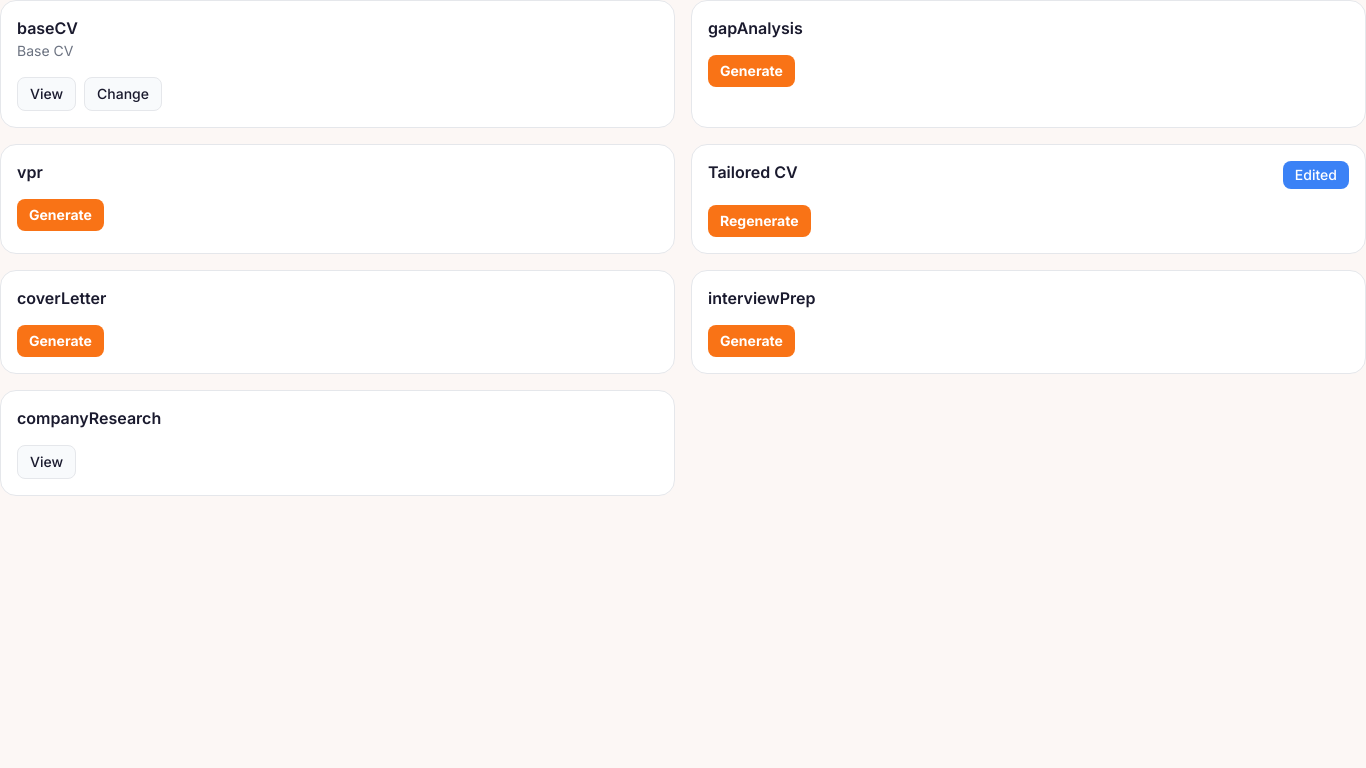
Test: ApplicationHubPage — action handlers › uses the tailored CV versioning copy in the regenerate modal
Click the button with test id "primary-cta" at (759, 221), box [708,205,811,237]
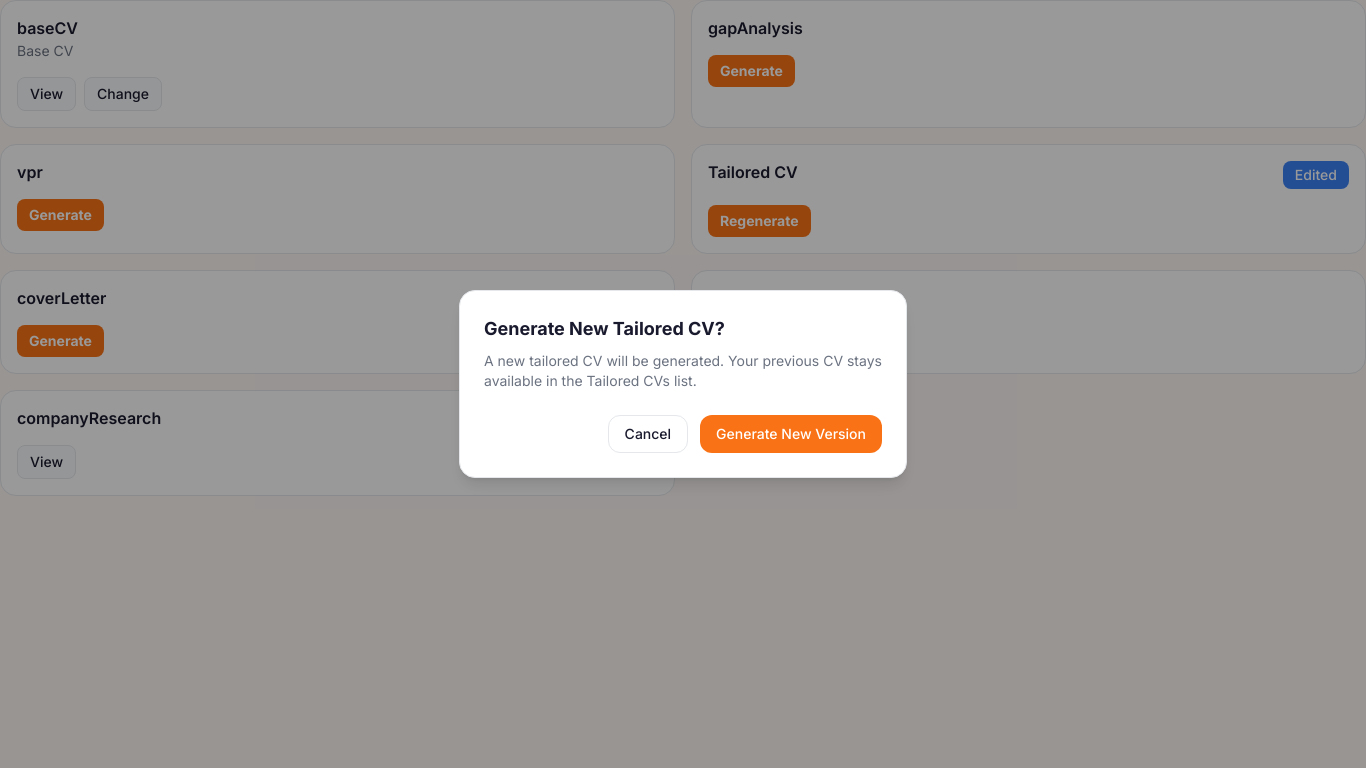
Expected: the dialog shows "Generate New Tailored CV?", [484,318,725,339]
Expected: the dialog shows "Your previous CV stays available in the Tailored CVs list.", [484,352,882,389]
Expected: the button "Generate New Version" is shown, [700,415,882,453]
